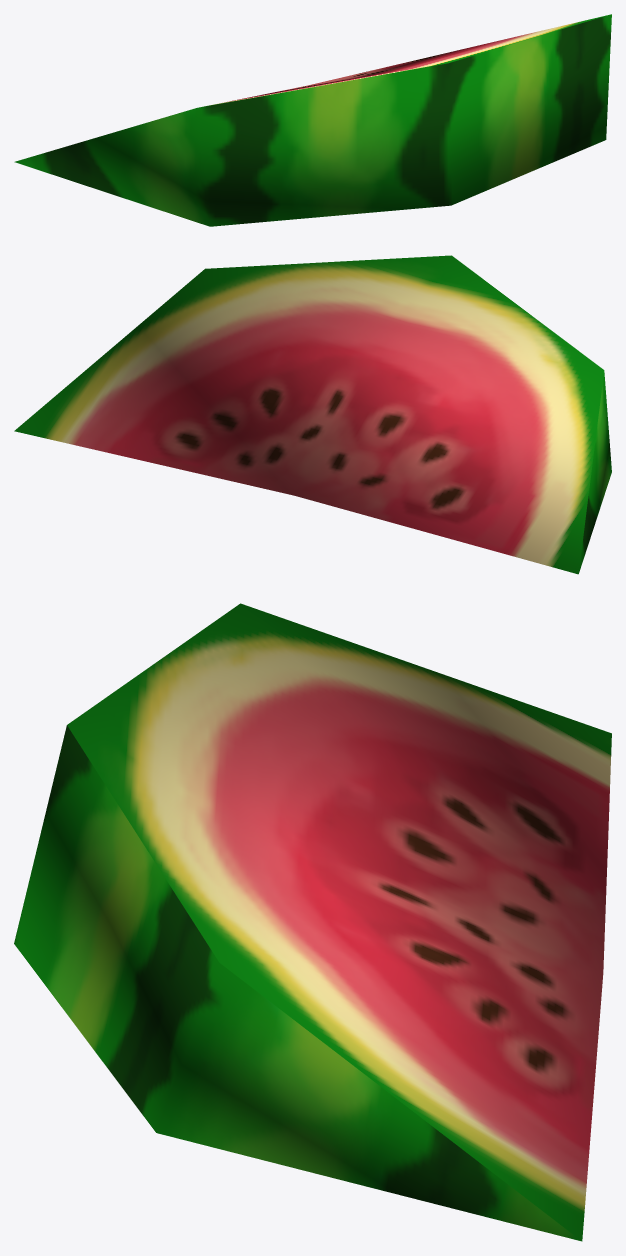
Rendered from SM_PROP_food_watermelon_03.FBX.
3 renders of one model, top to bottom at view 1: azimuth 30°, elevation 25°; view 2: azimuth 150°, elevation 25°; view 3: azimuth 270°, elevation 25°, orthographic. The views are drawn at different scales.
Parts seen in each view (by area): view 1: SM_PROP_food_watermelon_03; view 2: SM_PROP_food_watermelon_03; view 3: SM_PROP_food_watermelon_03.
Part boxes in pixels (box(x1,y1,x2,y2)): SM_PROP_food_watermelon_03: box(14, 14, 611, 226); SM_PROP_food_watermelon_03: box(14, 255, 611, 574); SM_PROP_food_watermelon_03: box(14, 603, 611, 1241).
Bounding box in the file's own units: 45.6 × 22.88 × 10.87.
